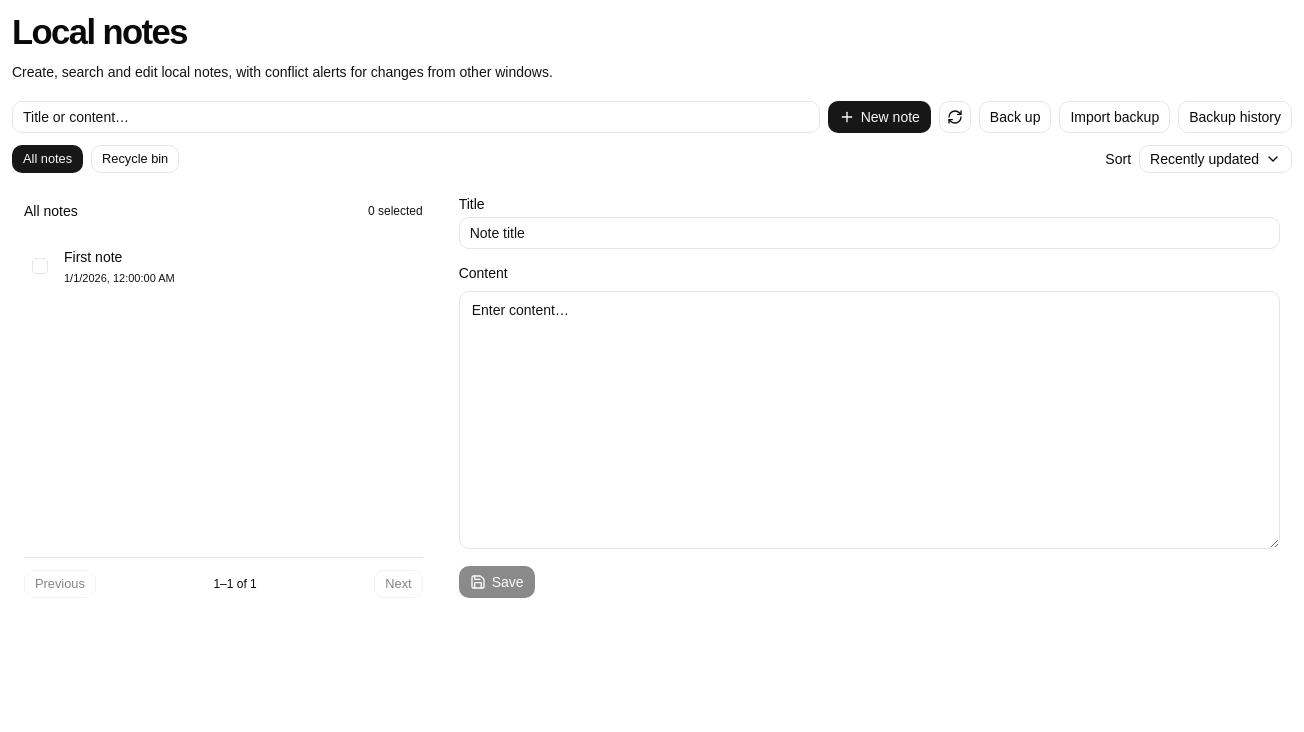
Test: native note editor › keeps a manually selected note ahead of a delayed search result
The width and height of the screenshot is (1304, 732).
Click the text "First note" at (93, 257), box [64,249,122,265]
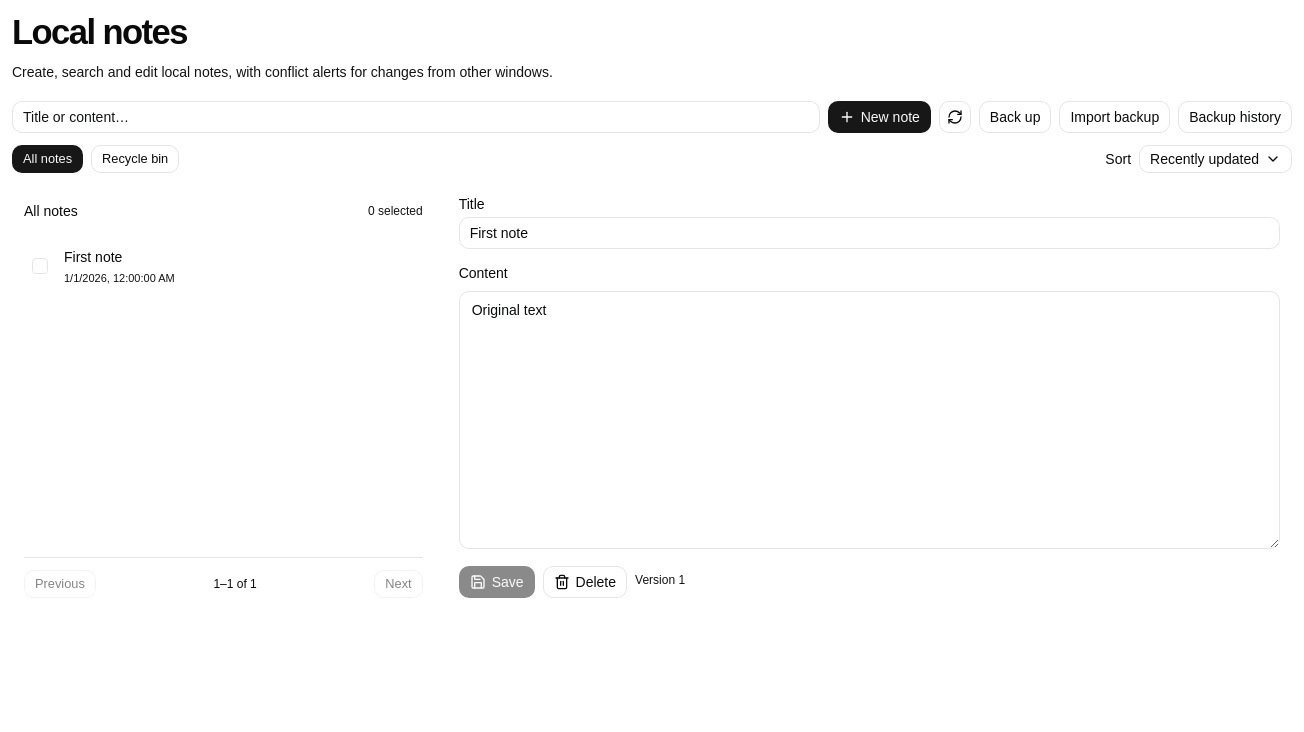
expect the field labelled "Title" holds "First note": met, box [459,217,1280,249]
expect the text box labelled "Content" holds "Original text": met, box [459,291,1280,549]
